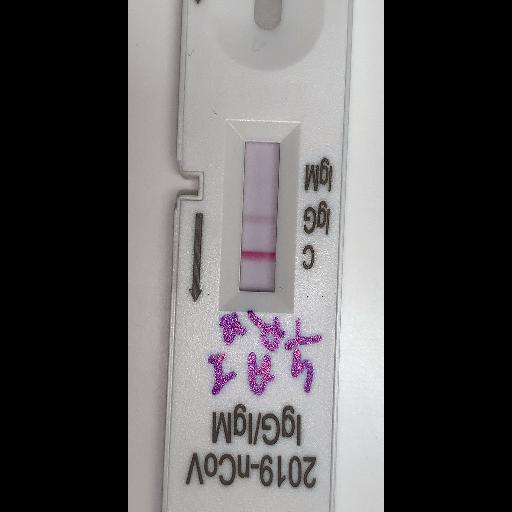Pos: (162, 0, 354, 507)
